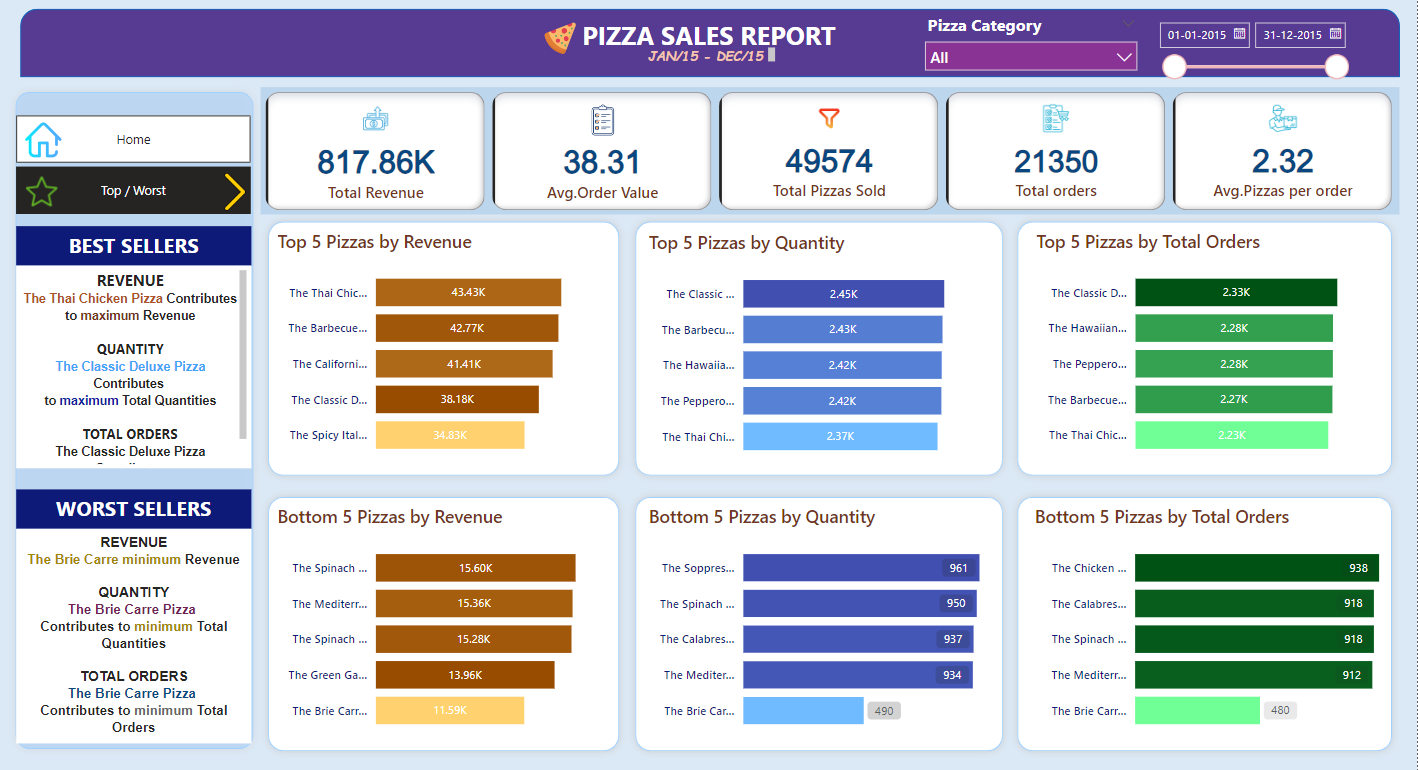

The dashboard page shown, as its layout file describes it:
{"tool":"powerbi","page":{"name":"Top / Worst","canvas":[1499,820],"ordinal":1},"visuals":[{"type":"cardVisual","fields":{"Data":["pizza_sales.Total Revenue","pizza_sales.Avg.Order Value","pizza_sales.Total Pizzas Sold","pizza_sales.Total orders","pizza_sales.Avg.Pizzas per order"]},"box":[276.2,93.8,1205,135],"z":0},{"type":"shape","box":[21.2,11.2,1460,72.5],"z":1000},{"type":"textbox","box":[591.2,15,317.5,50],"z":2000},{"type":"image","box":[565,20,53.8,45],"z":3000},{"type":"textbox","box":[673.8,47.5,151.2,26.2],"z":4000},{"type":"shape","box":[276.2,228.8,387.5,285],"z":5000},{"type":"shape","box":[8.8,91.2,267.5,711.2],"z":6000},{"type":"textbox","box":[17.5,282.5,248.8,215],"z":7000},{"type":"textbox","box":[17.5,561.2,248.8,227.5],"z":8000},{"type":"textbox","box":[17.5,241.2,248.8,41.2],"z":9000},{"type":"textbox","box":[17.5,520,248.8,41.2],"z":10000},{"type":"slicer","fields":{"Values":["pizza_sales.pizza_category"]},"box":[968.8,11.2,245,72.5],"z":11000},{"type":"slicer","fields":{"Values":["pizza_sales.order_date"]},"box":[1213.8,15,221.2,91.2],"z":12000},{"type":"shape","box":[276.2,520,387.5,285],"z":13000},{"type":"shape","box":[663.8,228.8,405,285],"z":14000},{"type":"shape","box":[1068.8,228.8,412.5,285],"z":15000},{"type":"shape","box":[663.8,520,405,285],"z":16000},{"type":"shape","box":[1068.8,520,412.5,285],"z":17000},{"type":"barChart","title":"Top 5 Pizzas by Revenue","fields":{"Category":["pizza_sales.pizza_name"],"Y":["pizza_sales.Total Revenue"]},"box":[288.8,243.8,385,253.8],"z":18000},{"type":"barChart","title":"Top 5 Pizzas by Quantity","fields":{"Category":["pizza_sales.pizza_name"],"Y":["pizza_sales.Total Pizzas Sold"]},"box":[681.2,245,370,253.8],"z":19000},{"type":"barChart","title":"Bottom 5 Pizzas by Quantity","fields":{"Category":["pizza_sales.pizza_name"],"Y":["pizza_sales.Total Pizzas Sold"]},"box":[681.2,535,370,253.8],"z":20000},{"type":"barChart","title":"Top 5 Pizzas by Total Orders","fields":{"Category":["pizza_sales.pizza_name"],"Y":["pizza_sales.Total orders"]},"box":[1091.2,243.8,390,253.8],"z":21000},{"type":"barChart","title":"Bottom 5 Pizzas by Total Orders","fields":{"Category":["pizza_sales.pizza_name"],"Y":["pizza_sales.Total orders"]},"box":[1090,535,391.2,253.8],"z":22000},{"type":"barChart","title":"Bottom 5 Pizzas by Revenue","fields":{"Category":["pizza_sales.pizza_name"],"Y":["pizza_sales.Total Revenue"]},"box":[288.8,535,385,253.8],"z":23000},{"type":"pageNavigator","box":[17.5,123.8,248.8,50],"z":24000},{"type":"pageNavigator","box":[17.5,178.8,248.8,50],"z":25000},{"type":"image","box":[21.2,125,48.8,48.8],"z":26000},{"type":"image","box":[18.8,182.5,51.2,43.8],"z":27000},{"type":"image","box":[221.2,180,55,50],"z":28000}]}

Visuals, with their boxes in screenshot pixels (x1, y1, x2, y2), scaled from the page's 1499x820 canvas onto the 1418x770 screenshot:
cardVisual - pizza_sales.Total Revenue x pizza_sales.Avg.Order Value: box=[261, 88, 1401, 215]
shape: box=[20, 11, 1401, 79]
textbox: box=[559, 14, 860, 61]
image: box=[534, 19, 585, 61]
textbox: box=[637, 45, 780, 69]
shape: box=[261, 215, 628, 482]
shape: box=[8, 86, 261, 753]
textbox: box=[17, 265, 252, 467]
textbox: box=[17, 527, 252, 741]
textbox: box=[17, 226, 252, 265]
textbox: box=[17, 488, 252, 527]
slicer - pizza_sales.pizza_category: box=[916, 11, 1148, 79]
slicer - pizza_sales.order_date: box=[1148, 14, 1357, 100]
shape: box=[261, 488, 628, 756]
shape: box=[628, 215, 1011, 482]
shape: box=[1011, 215, 1401, 482]
shape: box=[628, 488, 1011, 756]
shape: box=[1011, 488, 1401, 756]
"Top 5 Pizzas by Revenue" barChart: box=[273, 229, 637, 467]
"Top 5 Pizzas by Quantity" barChart: box=[644, 230, 994, 468]
"Bottom 5 Pizzas by Quantity" barChart: box=[644, 502, 994, 741]
"Top 5 Pizzas by Total Orders" barChart: box=[1032, 229, 1401, 467]
"Bottom 5 Pizzas by Total Orders" barChart: box=[1031, 502, 1401, 741]
"Bottom 5 Pizzas by Revenue" barChart: box=[273, 502, 637, 741]
pageNavigator: box=[17, 116, 252, 163]
pageNavigator: box=[17, 168, 252, 215]
image: box=[20, 117, 66, 163]
image: box=[18, 171, 66, 213]
image: box=[209, 169, 261, 216]
